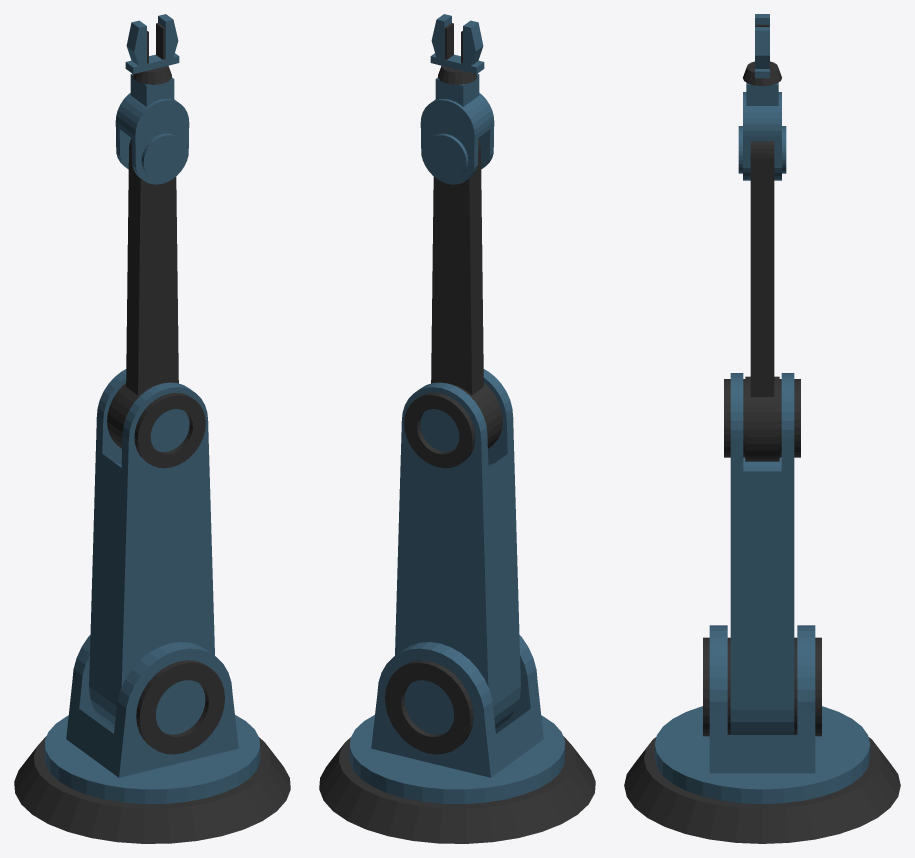
File: robot_arm.glb
The picture shows the model from 3 angles, left to right: view 1: azimuth 30°, elevation 25°; view 2: azimuth 150°, elevation 25°; view 3: azimuth 270°, elevation 25°; orthographic projection.
Parts seen in each view (by area): view 1: upperArm, column, basePlatform, lowerArm, wrist, shoulderJoint, elbowJoint, leftBar, rightBar, gripperBase; view 2: upperArm, column, basePlatform, lowerArm, wrist, shoulderJoint, elbowJoint, leftBar, rightBar, gripperBase; view 3: upperArm, column, basePlatform, lowerArm, wrist, shoulderJoint, elbowJoint, rightBar, gripperBase.
Boxes of the visible parts, x1,y1,x2,y2 form: upperArm: [89, 369, 214, 728]; column: [44, 634, 260, 803]; basePlatform: [14, 736, 290, 843]; lowerArm: [107, 138, 178, 448]; wrist: [115, 73, 189, 184]; shoulderJoint: [136, 660, 224, 754]; elbowJoint: [134, 392, 205, 468]; leftBar: [125, 20, 164, 74]; rightBar: [147, 14, 179, 69]; gripperBase: [133, 65, 171, 84]; upperArm: [395, 369, 520, 728]; column: [349, 634, 565, 803]; basePlatform: [319, 736, 595, 843]; lowerArm: [431, 138, 502, 448]; wrist: [420, 73, 494, 184]; shoulderJoint: [385, 660, 473, 754]; elbowJoint: [404, 392, 475, 468]; leftBar: [445, 20, 484, 74]; rightBar: [430, 14, 461, 69]; gripperBase: [438, 65, 476, 84]; upperArm: [730, 373, 794, 734]; column: [654, 625, 870, 803]; basePlatform: [624, 737, 900, 843]; lowerArm: [745, 141, 779, 461]; wrist: [738, 82, 786, 180]; shoulderJoint: [703, 637, 821, 736]; elbowJoint: [724, 379, 800, 457]; rightBar: [755, 27, 769, 78]; gripperBase: [743, 61, 781, 86].
Bounding box in the file's own units: 1.4 × 4.26 × 1.4.
